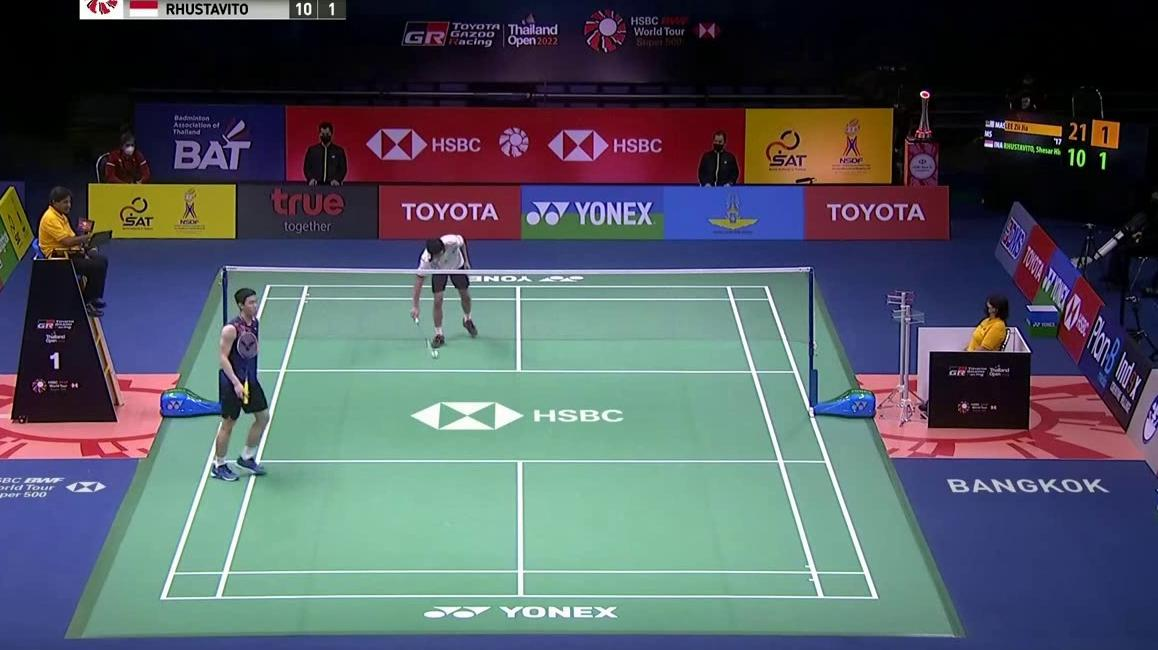racket: (238, 333, 259, 404), (414, 313, 437, 358)
shuttle: (432, 351, 439, 358)
